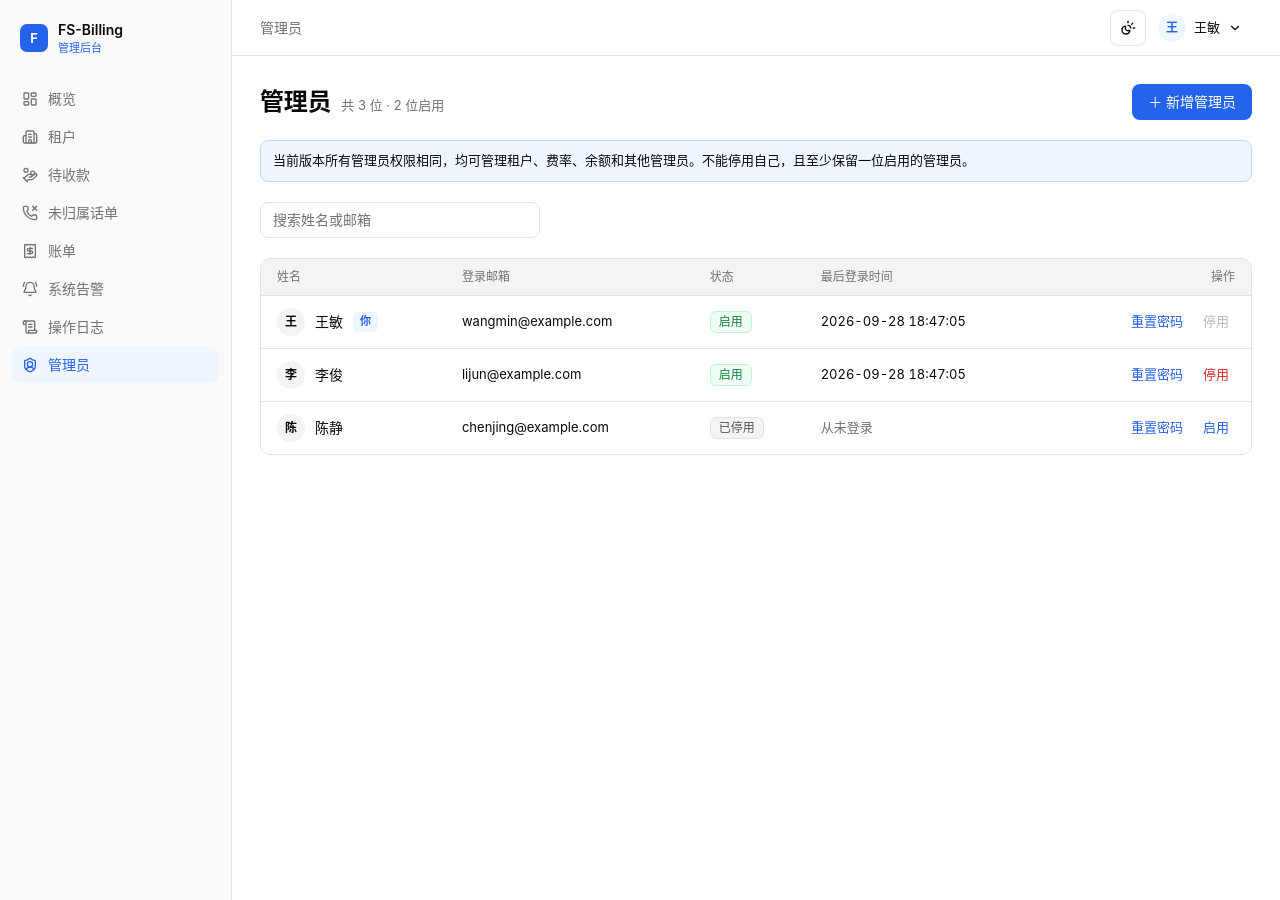
admin status and reset › maps LAST_ADMIN to the cannot-disable explanation
Click the button with aria-label "停用 李俊" at (1216, 374), box [1197,358,1235,390]
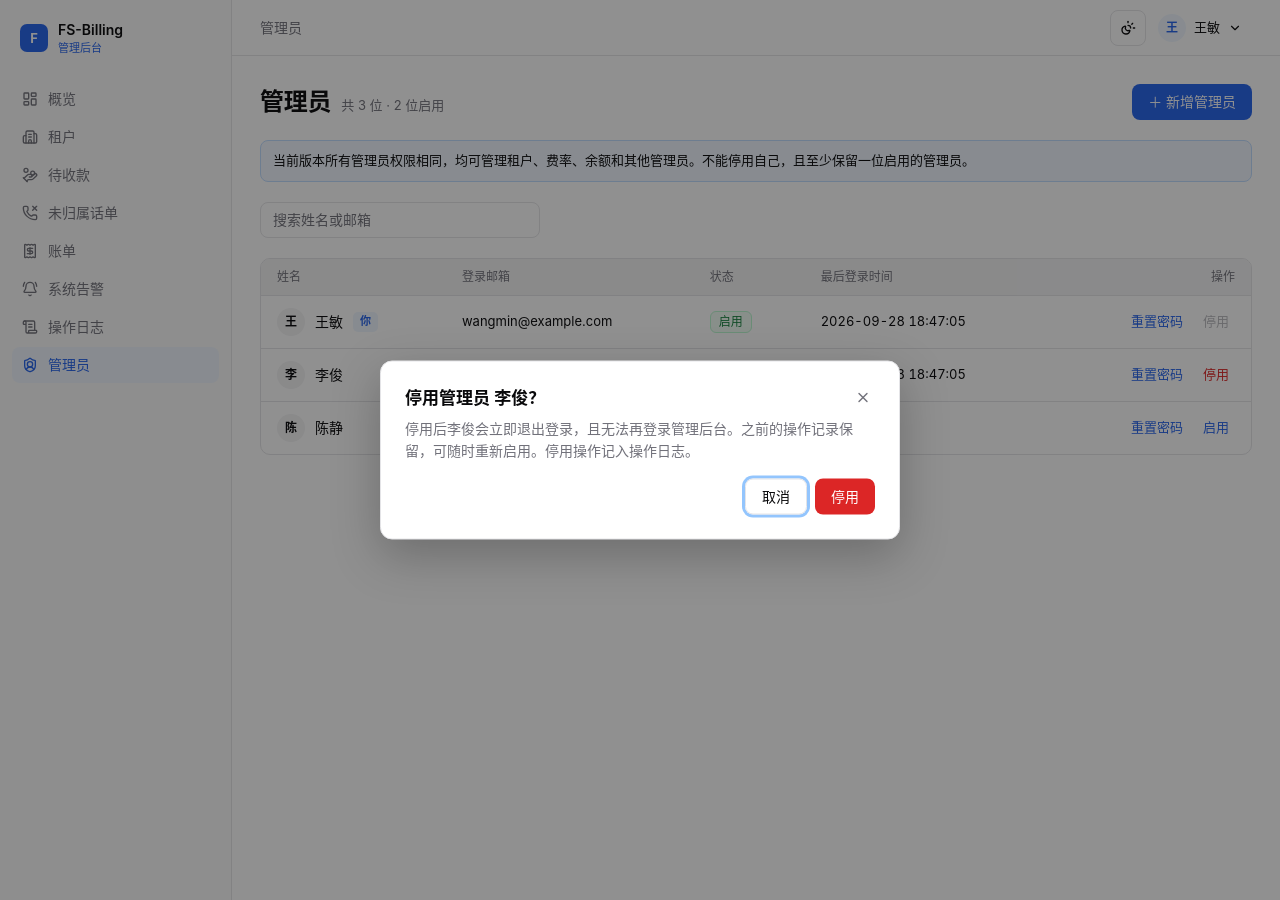
Expected: the dialog "停用管理员 李俊？" shows "停用后李俊会立即退出登录", [405,419,853,459]
Click the button "停用" at (845, 496), box [815,478,875,514]
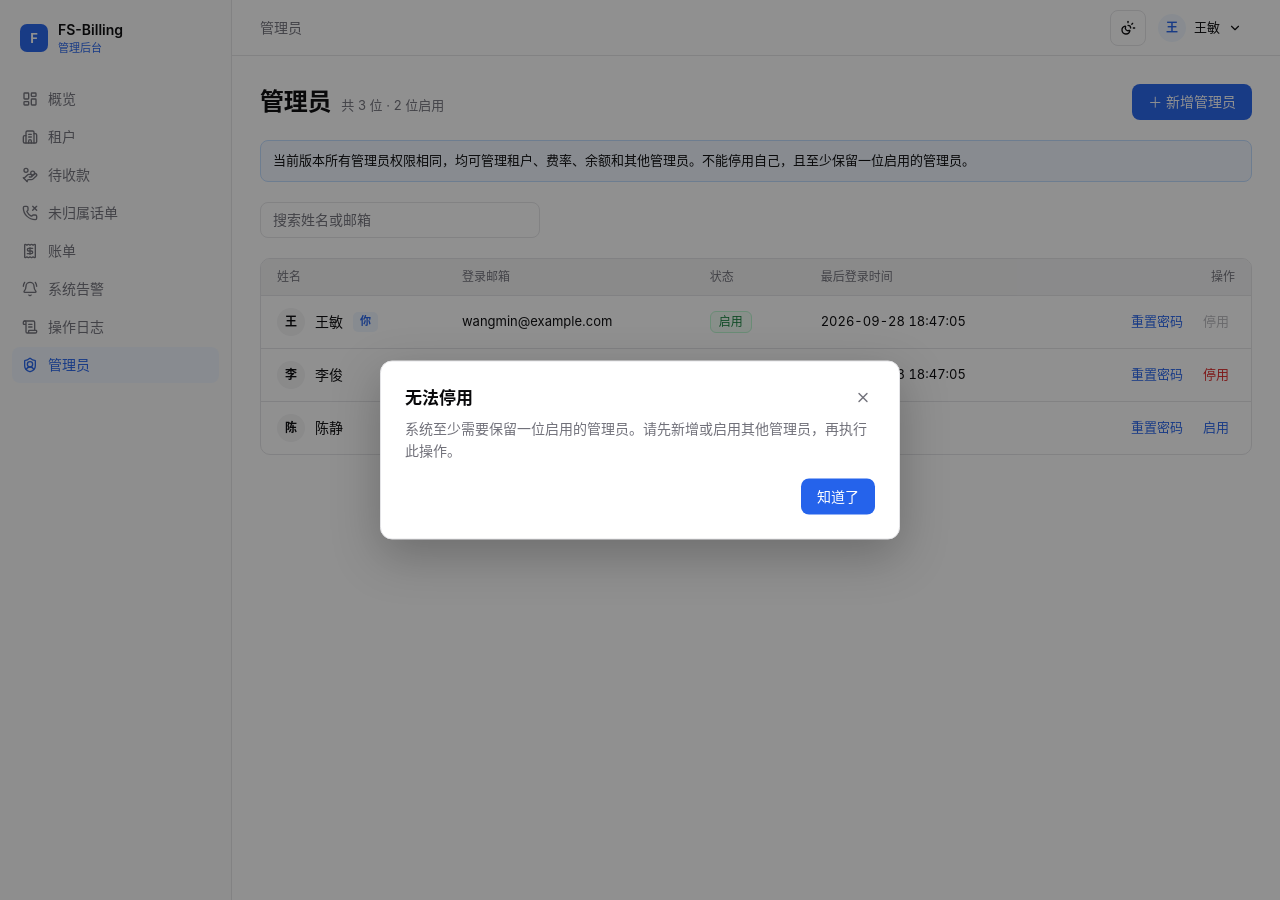
Expected: the dialog "无法停用" shows "系统至少需要保留一位启用的管理员。请先新增或启用其他管理员，再执行此操作。", [405,419,867,459]
Click the button "知道了" at (838, 496), box [801,478,875,514]
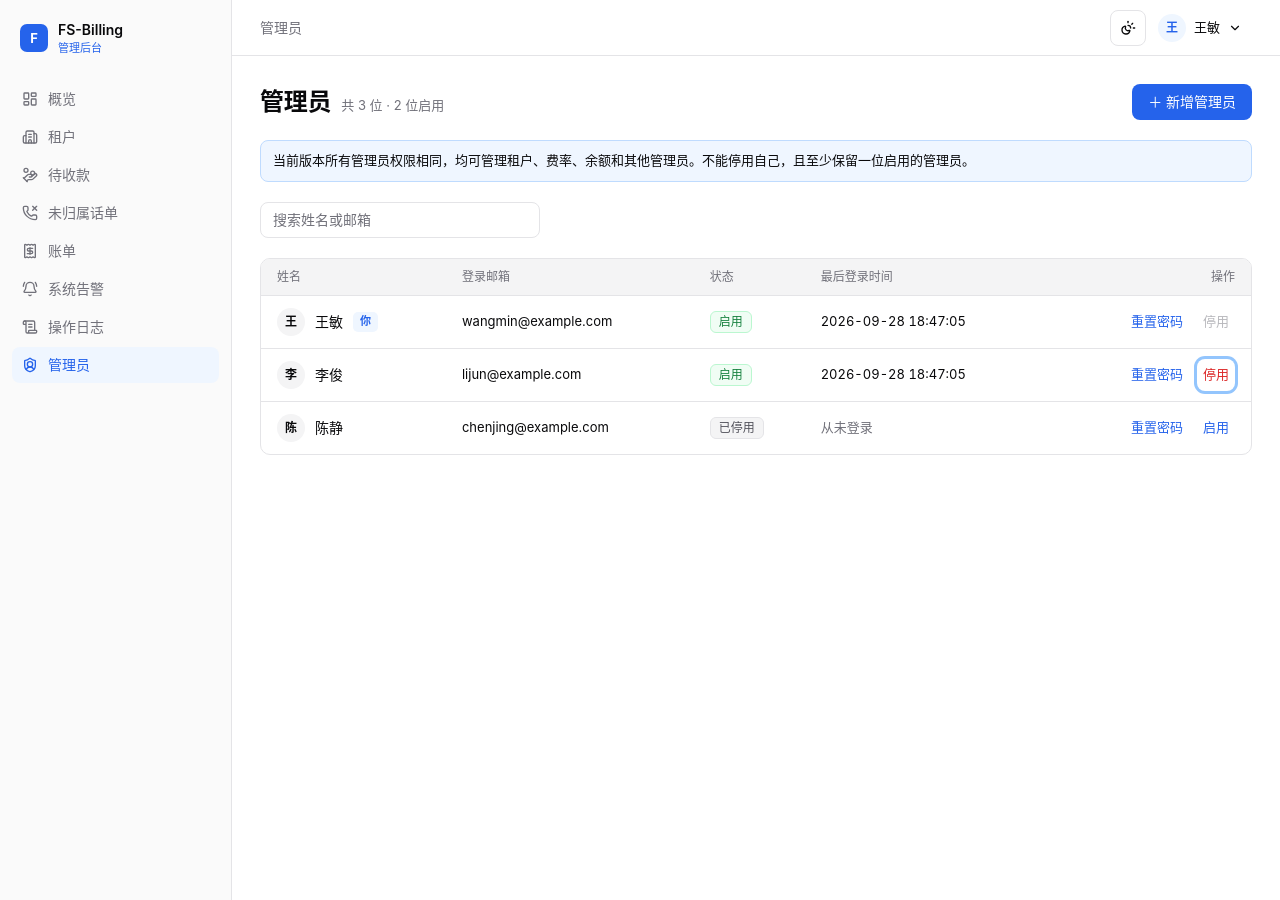
Expected: the dialog is gone
